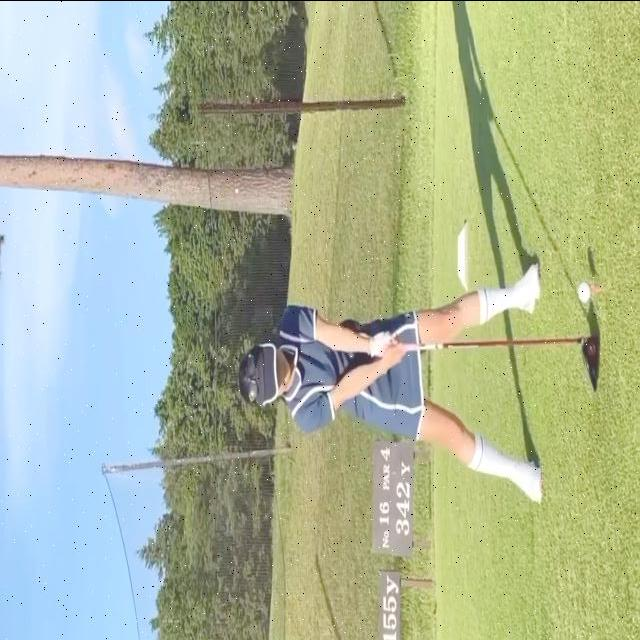golf ball: (578, 279, 592, 303)
golf club-handle: (401, 338, 601, 390)
golf club-head: (580, 338, 600, 391)
